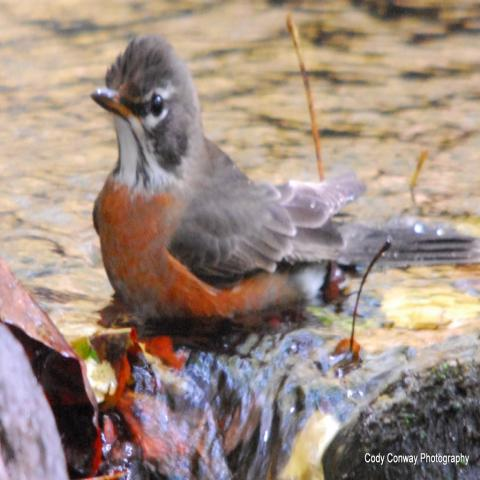bird: (92, 33, 478, 338)
